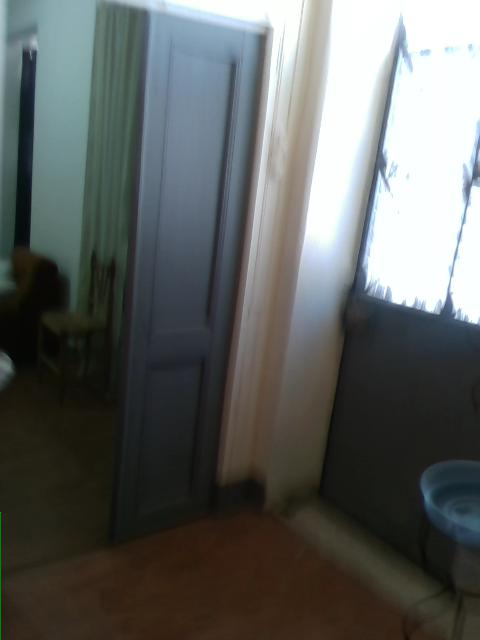door: (114, 2, 265, 544)
